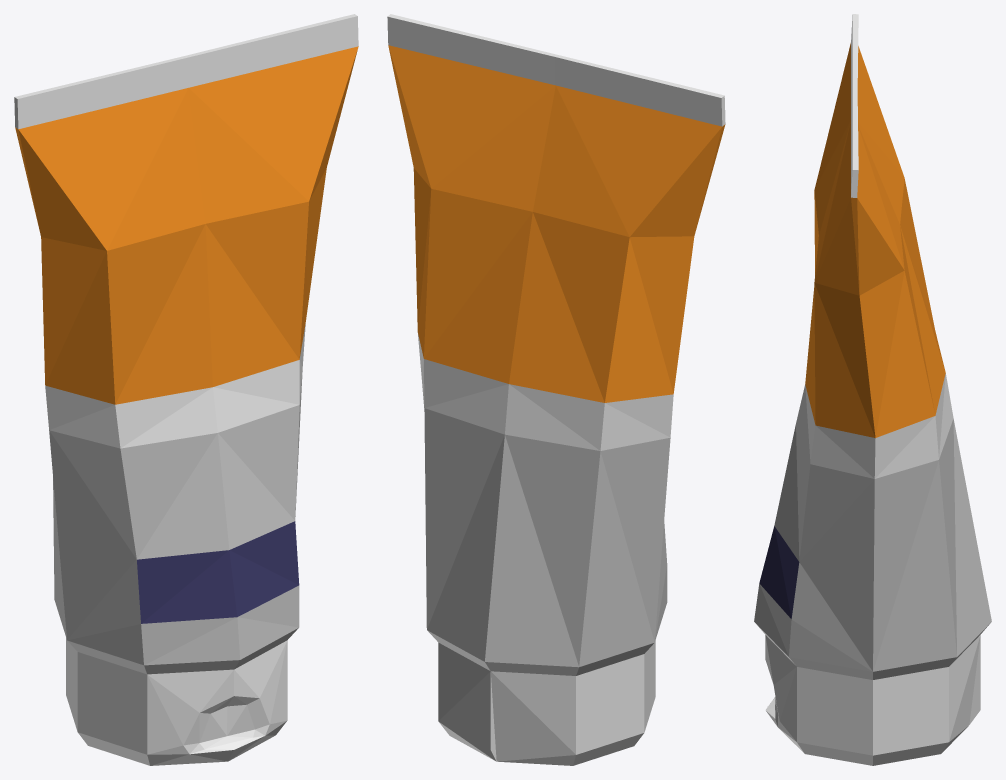
File: CKCream.dae
3 views of the same model, side by side, from view 1: azimuth 30°, elevation 25°; view 2: azimuth 150°, elevation 25°; view 3: azimuth 270°, elevation 25° (orthographic). The views are drawn at different scales.
Parts seen in each view (by area): view 1: Cylinder_003; view 2: Cylinder_003; view 3: Cylinder_003.
Boxes of the visible parts, <box> form: Cylinder_003: <box>14,14,358,765</box>; Cylinder_003: <box>387,14,725,765</box>; Cylinder_003: <box>754,14,991,765</box>.
Bounding box in the file's own units: 2.1 × 1.35 × 3.98.
Materials: 4 (4 with a texture image).
